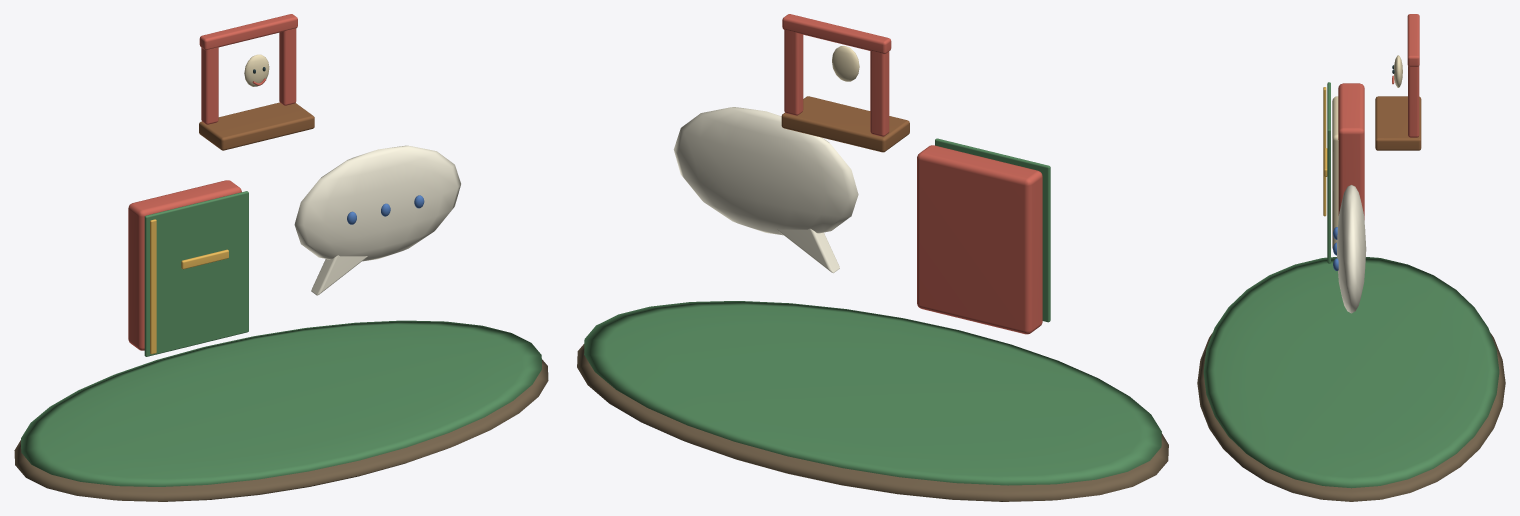
The model's file is complete-third-small-speaking-book.glb.
The picture shows the model from 3 angles, left to right: view 1: azimuth 30°, elevation 25°; view 2: azimuth 150°, elevation 25°; view 3: azimuth 270°, elevation 25°; orthographic projection. The views are drawn at different scales.
Parts seen in each view (by area): view 1: complete-third-small-speaking-book_surface_01, complete-third-small-speaking-book_surface_05, complete-third-small-speaking-book_surface_00, complete-third-small-speaking-book_surface_02, complete-third-small-speaking-book_surface_07, complete-third-small-speaking-book_surface_04, complete-third-small-speaking-book_surface_03; view 2: complete-third-small-speaking-book_surface_01, complete-third-small-speaking-book_surface_02, complete-third-small-speaking-book_surface_05, complete-third-small-speaking-book_surface_00, complete-third-small-speaking-book_surface_07, complete-third-small-speaking-book_surface_03; view 3: complete-third-small-speaking-book_surface_01, complete-third-small-speaking-book_surface_00, complete-third-small-speaking-book_surface_02, complete-third-small-speaking-book_surface_05, complete-third-small-speaking-book_surface_07, complete-third-small-speaking-book_surface_03, complete-third-small-speaking-book_surface_04.
Boxes of the visible parts, x1,y1,x2,y2 form: complete-third-small-speaking-book_surface_01: [21, 191, 541, 486]; complete-third-small-speaking-book_surface_05: [294, 145, 460, 295]; complete-third-small-speaking-book_surface_00: [14, 359, 548, 501]; complete-third-small-speaking-book_surface_02: [128, 14, 297, 350]; complete-third-small-speaking-book_surface_07: [199, 102, 314, 150]; complete-third-small-speaking-book_surface_04: [150, 219, 228, 354]; complete-third-small-speaking-book_surface_03: [244, 54, 269, 86]; complete-third-small-speaking-book_surface_01: [584, 138, 1161, 485]; complete-third-small-speaking-book_surface_02: [782, 14, 1042, 334]; complete-third-small-speaking-book_surface_05: [673, 107, 858, 273]; complete-third-small-speaking-book_surface_00: [577, 344, 1168, 501]; complete-third-small-speaking-book_surface_07: [781, 96, 909, 152]; complete-third-small-speaking-book_surface_03: [832, 46, 859, 81]; complete-third-small-speaking-book_surface_01: [1203, 82, 1499, 488]; complete-third-small-speaking-book_surface_00: [1197, 333, 1505, 501]; complete-third-small-speaking-book_surface_02: [1338, 14, 1419, 219]; complete-third-small-speaking-book_surface_05: [1337, 185, 1366, 313]; complete-third-small-speaking-book_surface_07: [1375, 96, 1421, 150]; complete-third-small-speaking-book_surface_03: [1332, 55, 1402, 248]; complete-third-small-speaking-book_surface_04: [1323, 87, 1327, 216].
Bounding box in the file's own units: 4.56 × 3.25 × 2.5.
